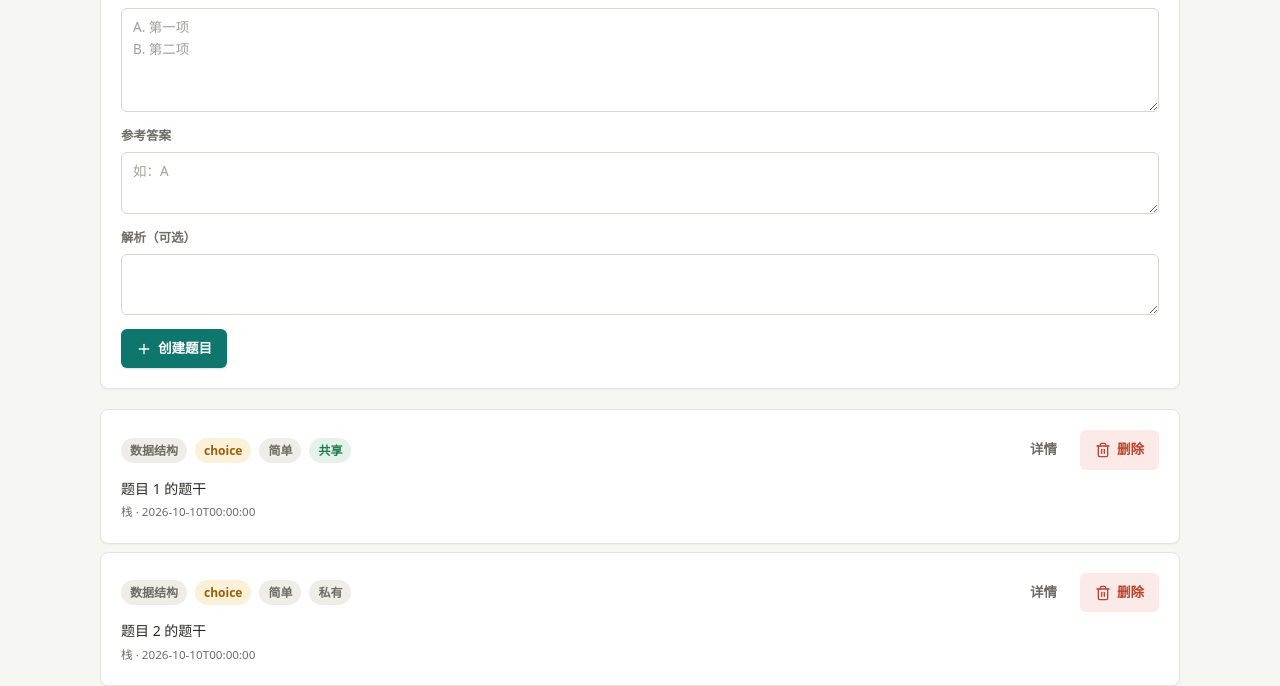
Test case: AdminQuestionsView › 删除题目后刷新覆盖统计
(page scrolled)
Click the 1st button "删除": [1120, 450] box [1080,430,1159,470]
(page scrolled)
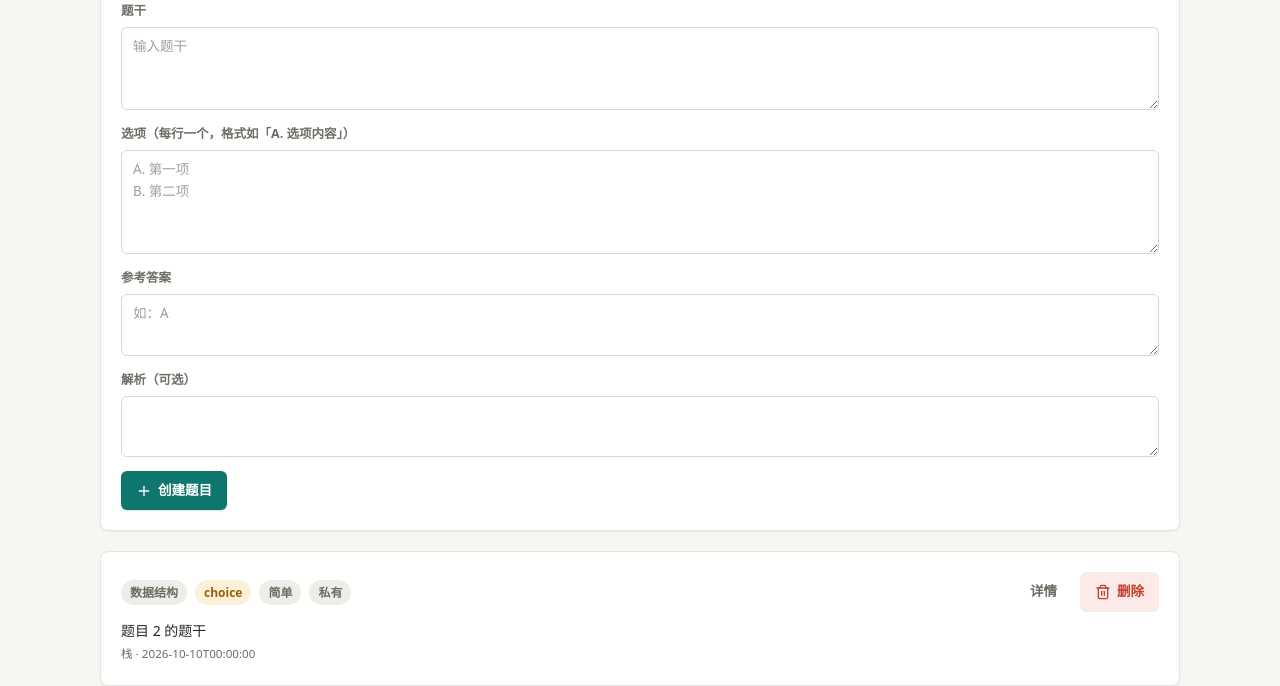
Expected: the text "题目 1 的题干" is gone
